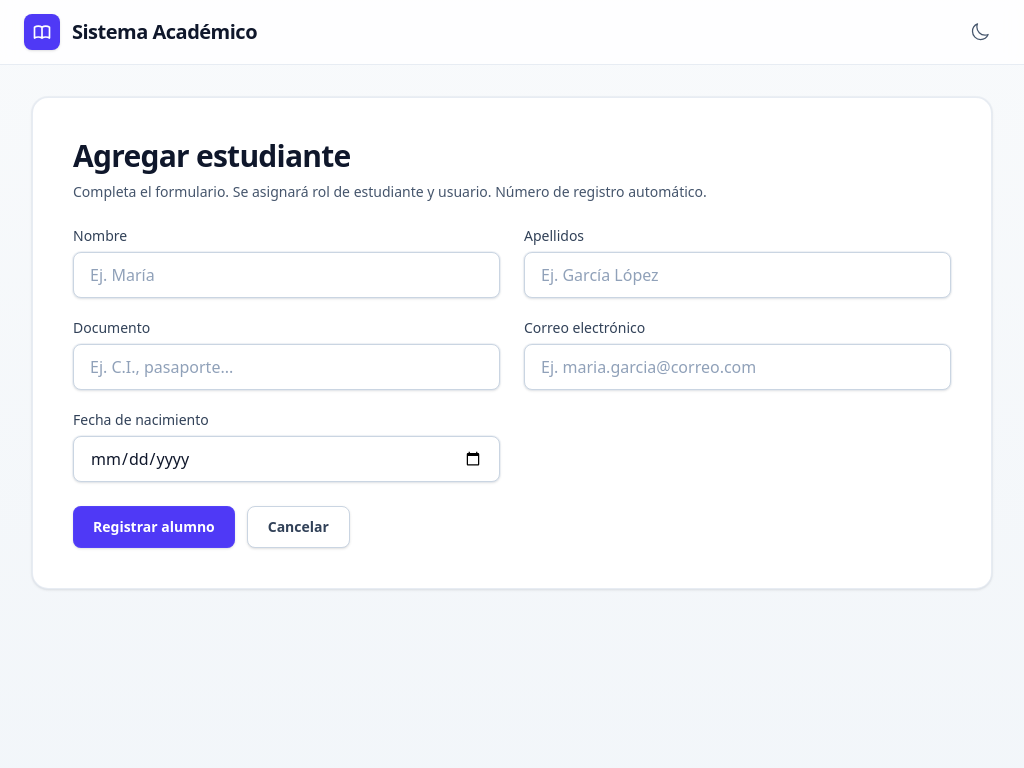
Test: RegisterPage (integración) › muestra mensaje de error cuando createStudent falla
This screenshot has width=1024, height=768.
Type "María" into the field labelled "Nombre" at point(286, 275), box top-left (73, 252), bottom-right (500, 298)
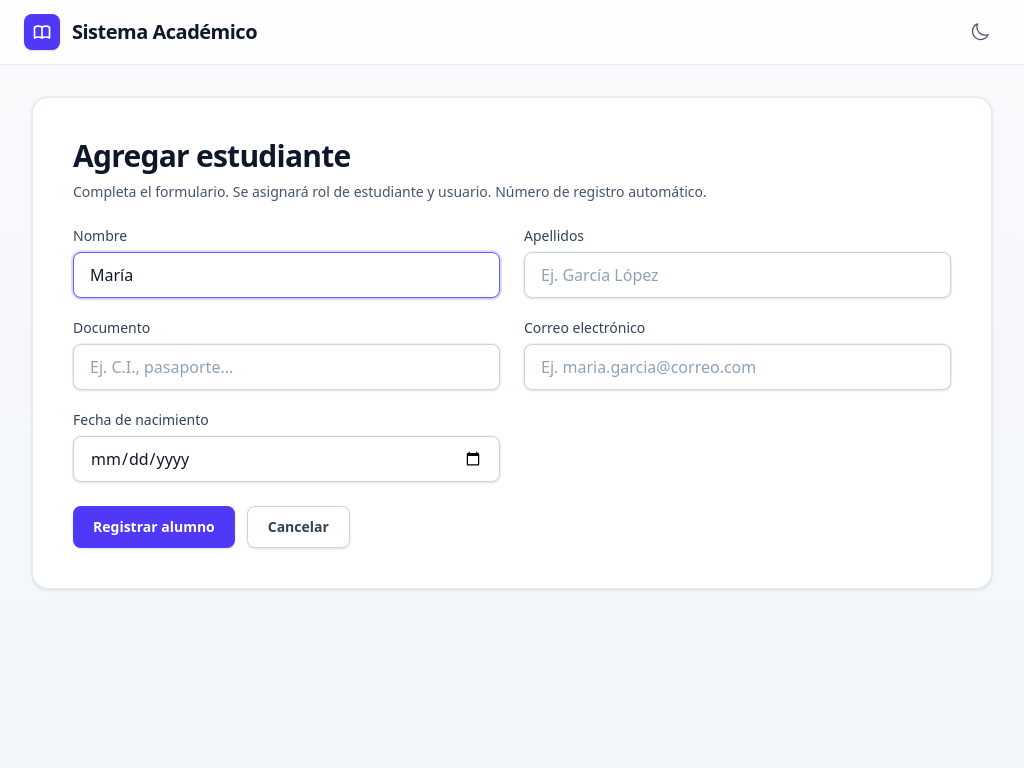
Type "García López" into the field labelled "Apellidos" at point(738, 275), box top-left (524, 252), bottom-right (951, 298)
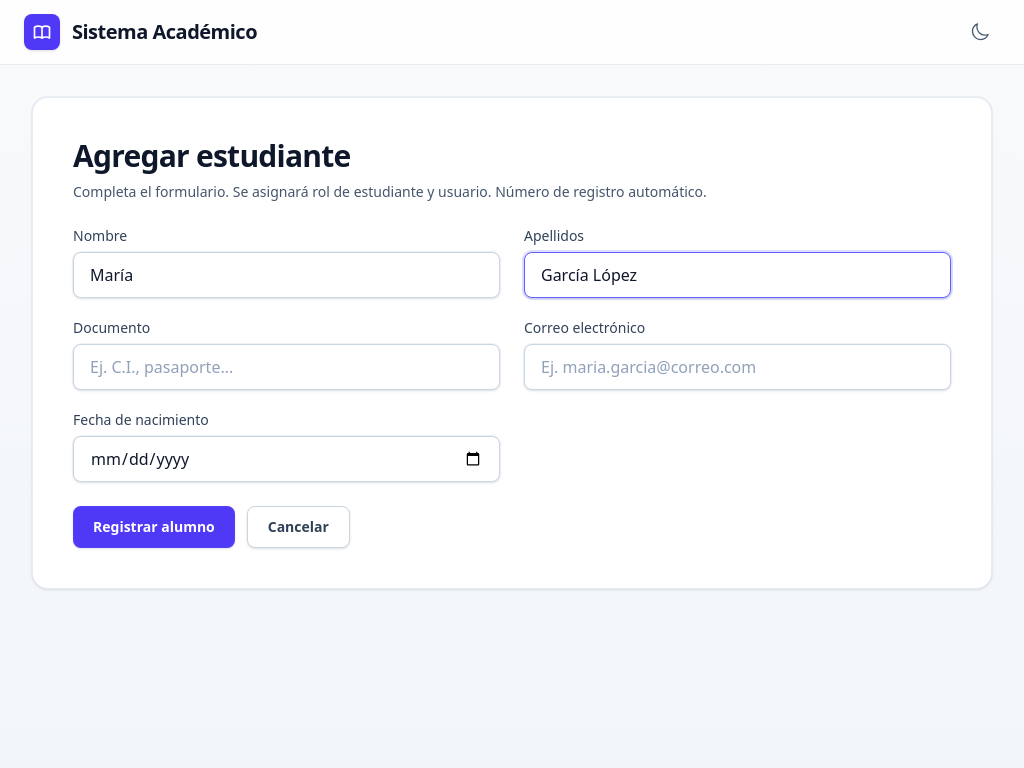
Type "12345678" into the field labelled "Documento" at point(286, 367), box top-left (73, 344), bottom-right (500, 390)
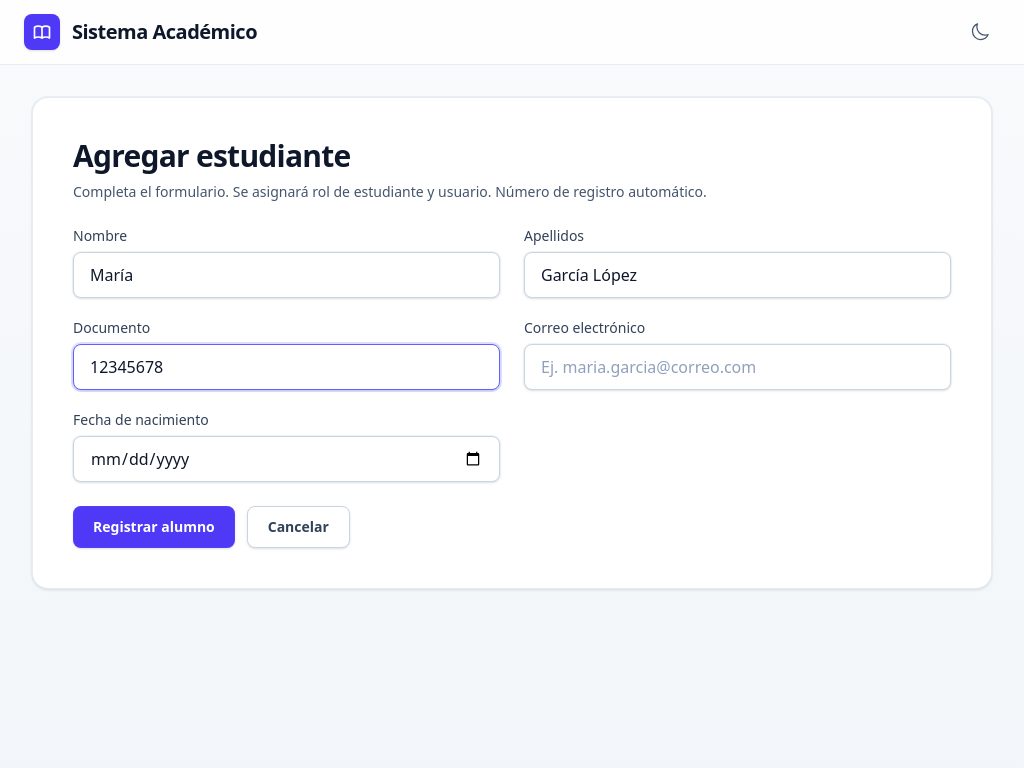
Type "2000-05-15" into the date field labelled "Fecha de nacimiento" at point(286, 459), box top-left (73, 436), bottom-right (500, 482)
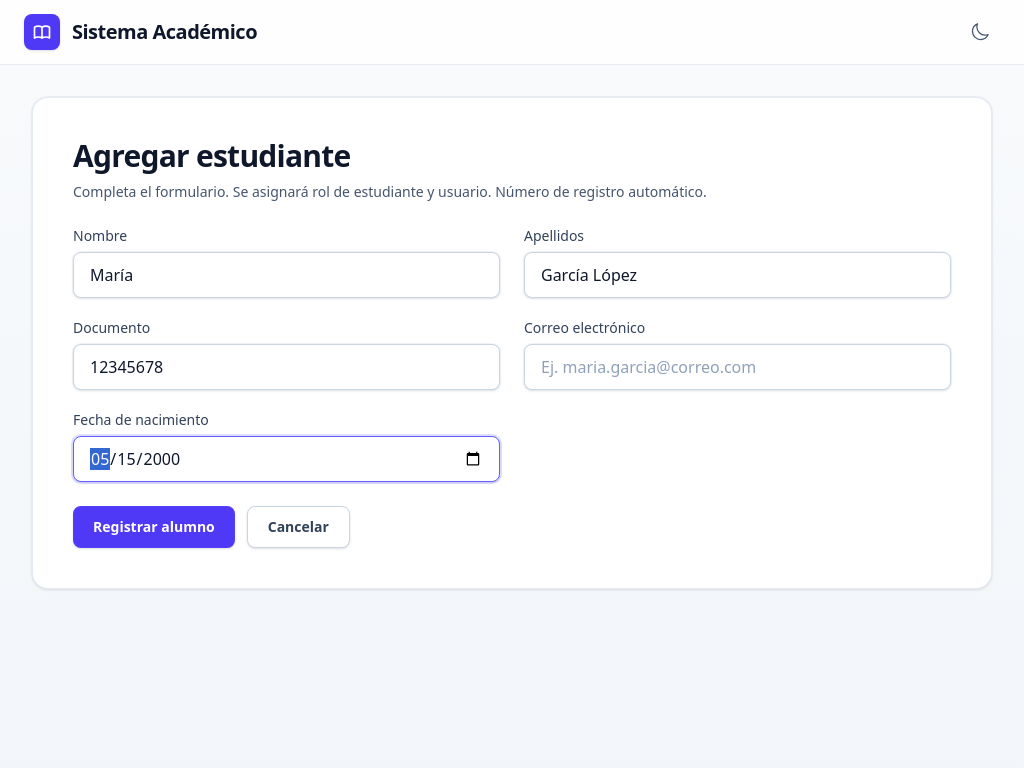
Click the button "Registrar alumno" at point(154, 527), box top-left (73, 506), bottom-right (235, 548)
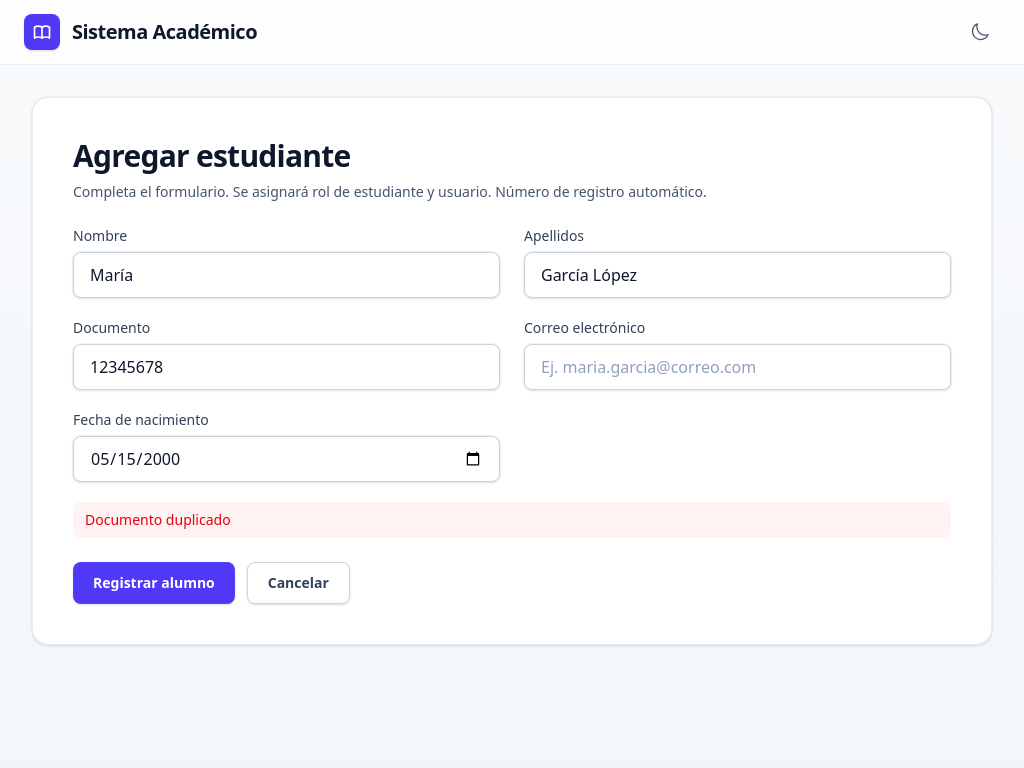
Check: the text "Documento duplicado" is shown, box top-left (73, 502), bottom-right (951, 538)
